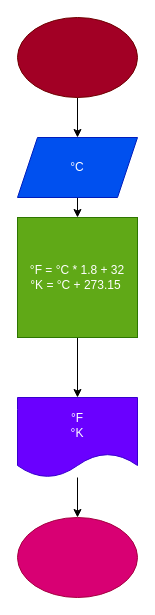
This 155x615 diagram has some shape labels left out. Here are the shapes that lost their labels. From the top down, the box of each, then its label:
(16, 16, 138, 98): INICIO
(16, 516, 138, 598): FIN
